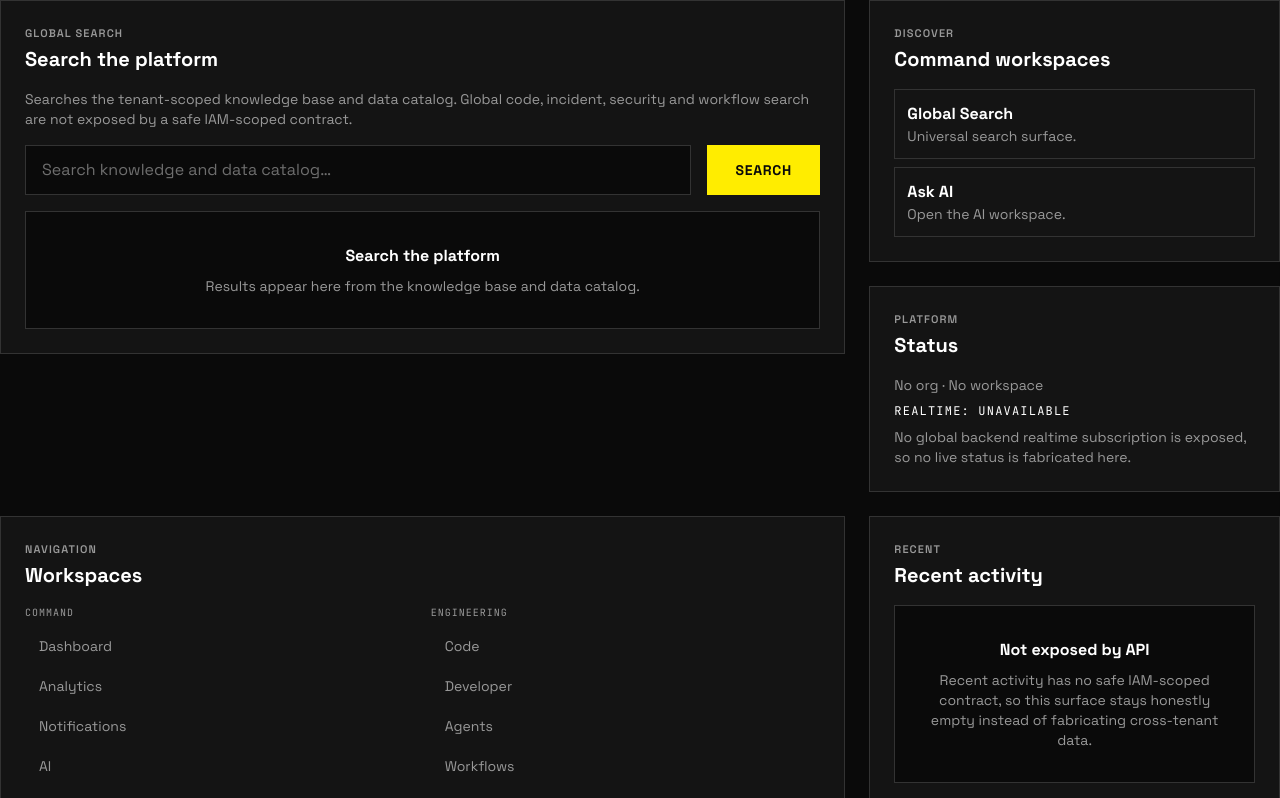
Test: CommandCenter › surfaces a permission error on global search
This screenshot has width=1280, height=798.
Type "billing" into the field named "Command center search query". click: x=358, y=170
box: [25,145,691,195]
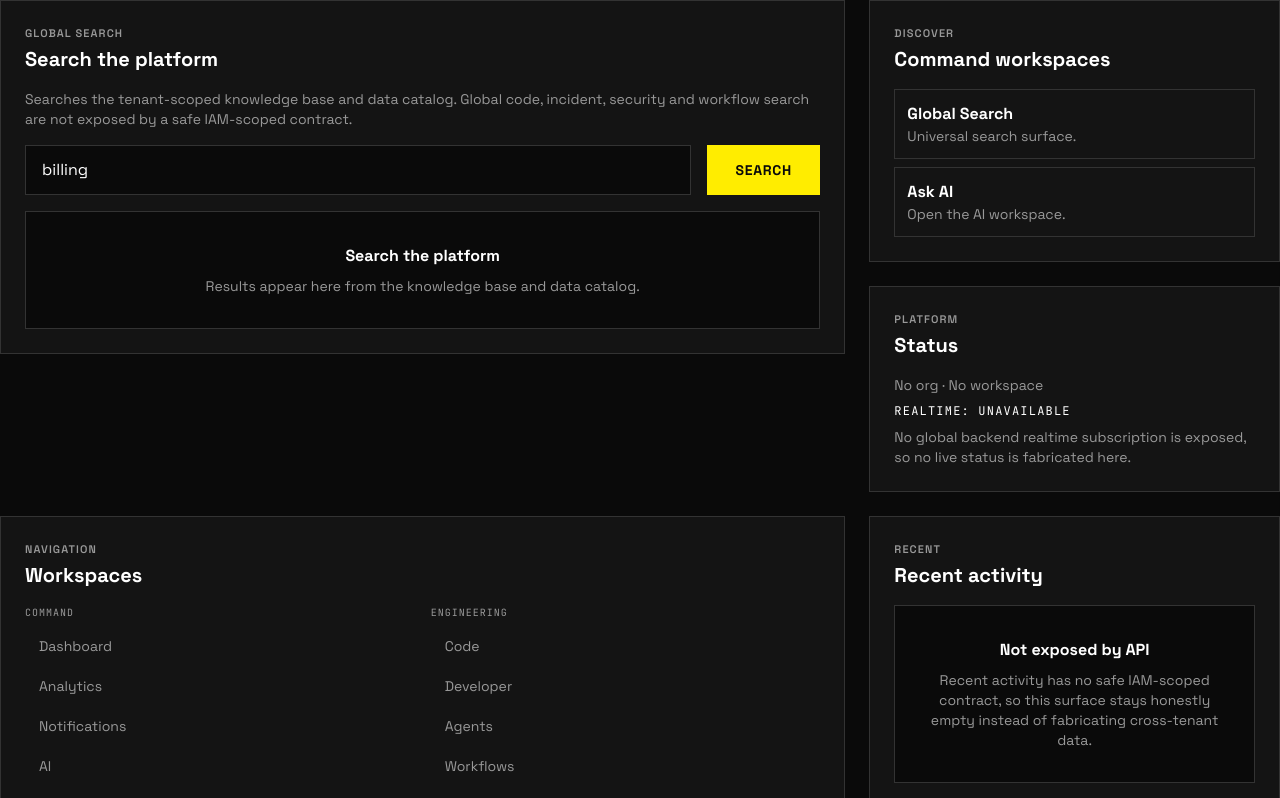
Click the button "Search". click: x=764, y=170
box: [707,145,820,195]
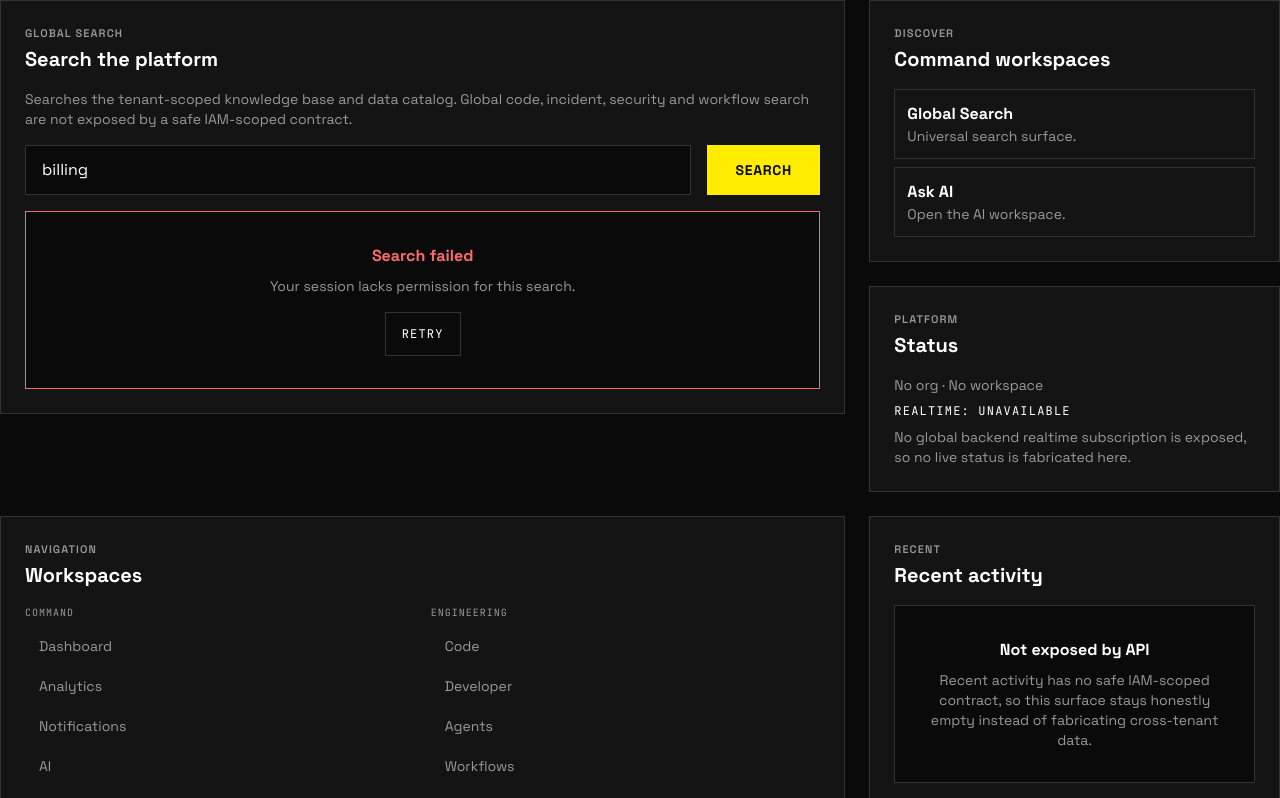
Expected: the text "Your session lacks permission for this search." is shown, [270,277,575,295]
